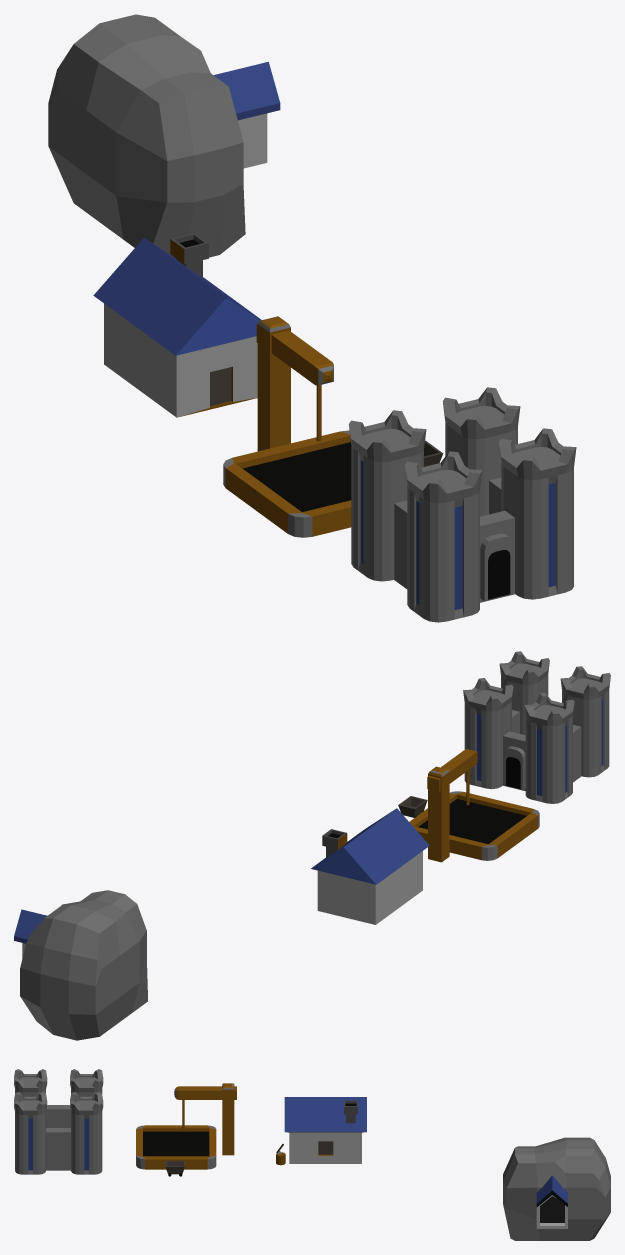
The model's file is BuildingsRemaster.fbx.
3 renders of one model, top to bottom at view 1: azimuth 30°, elevation 25°; view 2: azimuth 150°, elevation 25°; view 3: azimuth 270°, elevation 25°, orthographic. The views are drawn at different scales.
Visible parts, largest first — view 1: Castle, Rock.001, Sawmill, Querry; view 2: Castle, Rock.001, Sawmill, Querry; view 3: Rock.001, Castle, Querry, Sawmill.
Boxes of the visible parts, x1=… form: Castle: x1=349, y1=387, x2=576, y2=622; Rock.001: x1=48, y1=14, x2=280, y2=257; Sawmill: x1=93, y1=233, x2=261, y2=417; Querry: x1=223, y1=316, x2=443, y2=537; Castle: x1=463, y1=651, x2=610, y2=803; Rock.001: x1=14, y1=890, x2=147, y2=1040; Sawmill: x1=311, y1=808, x2=429, y2=924; Querry: x1=398, y1=749, x2=539, y2=862; Rock.001: x1=503, y1=1137, x2=610, y2=1240; Castle: x1=14, y1=1069, x2=103, y2=1174; Querry: x1=136, y1=1083, x2=236, y2=1176; Sawmill: x1=276, y1=1097, x2=366, y2=1165.
Size of the model in its own units: 260 by 129 by 693.
